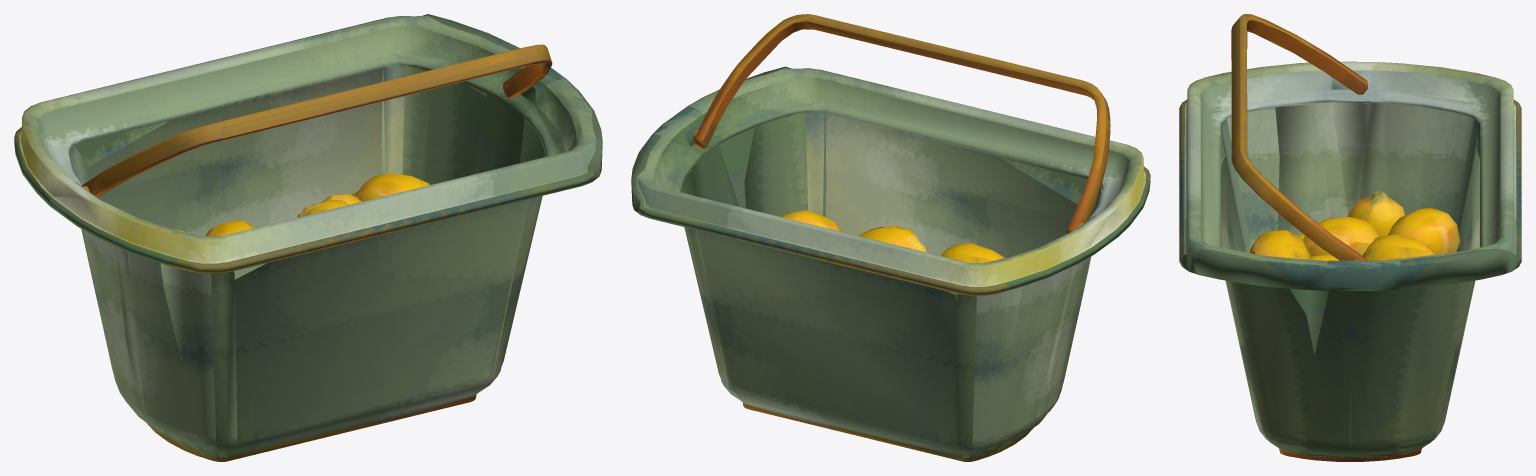
The model's file is LO_basket_filled.glb.
3 views of the same model, side by side, from view 1: azimuth 30°, elevation 25°; view 2: azimuth 150°, elevation 25°; view 3: azimuth 270°, elevation 25° (orthographic). The views are drawn at different scales.
Visible parts, largest first — view 1: grren.001; view 2: grren.001; view 3: grren.001.
Part boxes in pixels (left/top/right/bottom): grren.001: left=14, top=14, right=602, bottom=461; grren.001: left=631, top=14, right=1150, bottom=461; grren.001: left=1179, top=14, right=1521, bottom=461.
Bounding box in the file's own units: 0.5169 × 0.3664 × 0.3603.
Materials: 2 (2 with a texture image).
